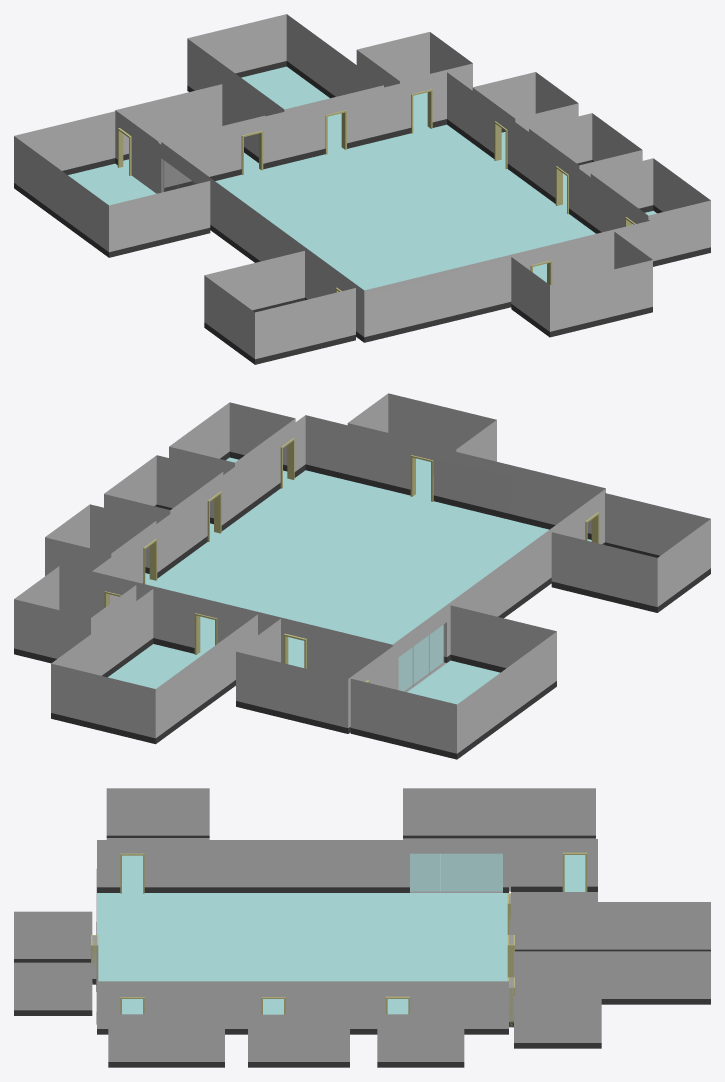
Rendered from mainArea3.fbx.
3 views of the same model, one above another, from view 1: azimuth 30°, elevation 25°; view 2: azimuth 150°, elevation 25°; view 3: azimuth 270°, elevation 25° (orthographic). The views are drawn at different scales.
Visible parts, largest first — view 1: polySurface8; view 2: polySurface8; view 3: polySurface8.
Part boxes in pixels (box(x1,y1,x2,y2)): polySurface8: box(14, 14, 710, 364); polySurface8: box(14, 393, 710, 759); polySurface8: box(14, 788, 710, 1067).
Size of the model in its own units: 3067 by 336 by 3990.
